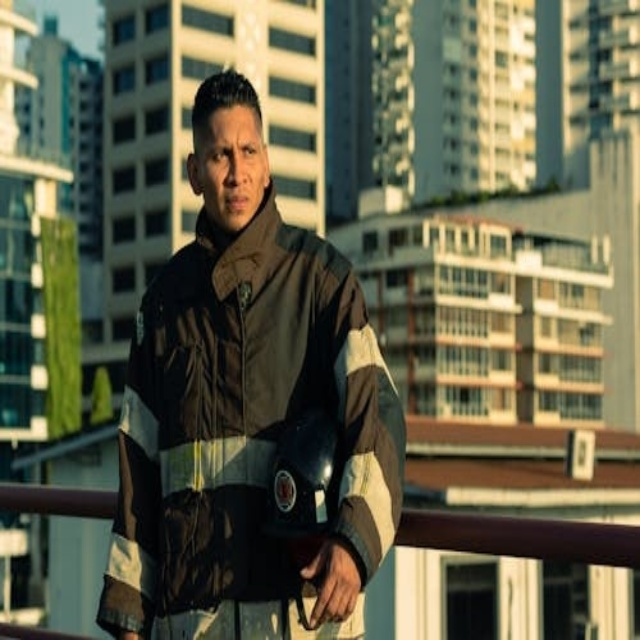Sin_gafas: (205, 129, 262, 167)
Sin_guantes: (298, 530, 366, 632)
Sin_mascara: (220, 188, 253, 217)
